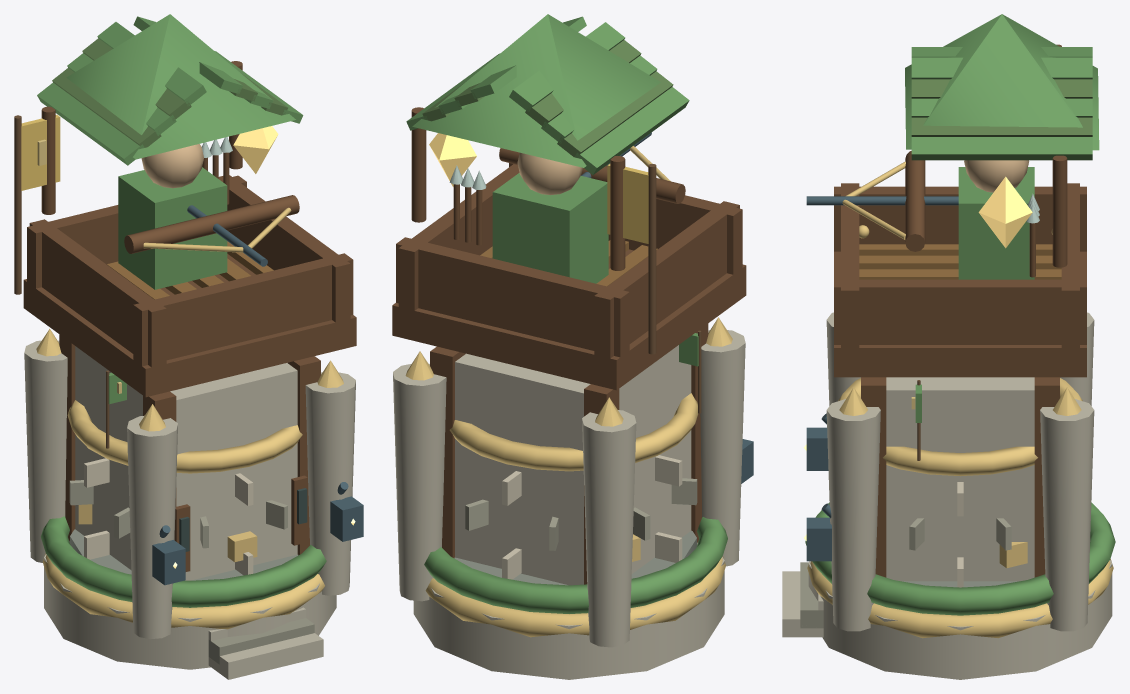
The model's file is tower-arrow-3-1.glb.
The picture shows the model from 3 angles, left to right: view 1: azimuth 30°, elevation 25°; view 2: azimuth 150°, elevation 25°; view 3: azimuth 270°, elevation 25°; orthographic projection. The views are drawn at different scales.
Parts seen in each view (by area): view 1: Foundation, Turret, arrow-L3-1; view 2: Foundation, Turret, arrow-L3-1; view 3: Turret, Foundation, arrow-L3-1.
Part boxes in pixels (x1,y1,x2,y2): Foundation: (14, 115, 363, 679); Turret: (23, 14, 356, 397); arrow-L3-1: (44, 529, 336, 669); Foundation: (393, 163, 753, 647); Turret: (392, 14, 746, 390); arrow-L3-1: (413, 530, 724, 679); Turret: (806, 14, 1099, 377); Foundation: (782, 44, 1115, 638); arrow-L3-1: (808, 560, 1112, 679).
Size of the model in its own units: 1.72 by 3.67 by 1.84.
